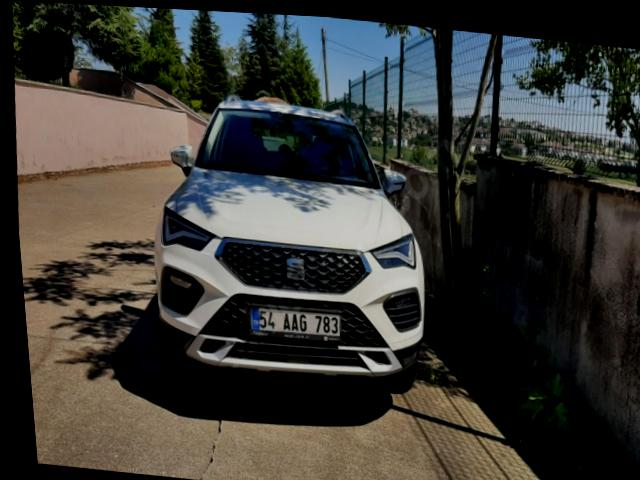plaka: (250, 308, 341, 338)
